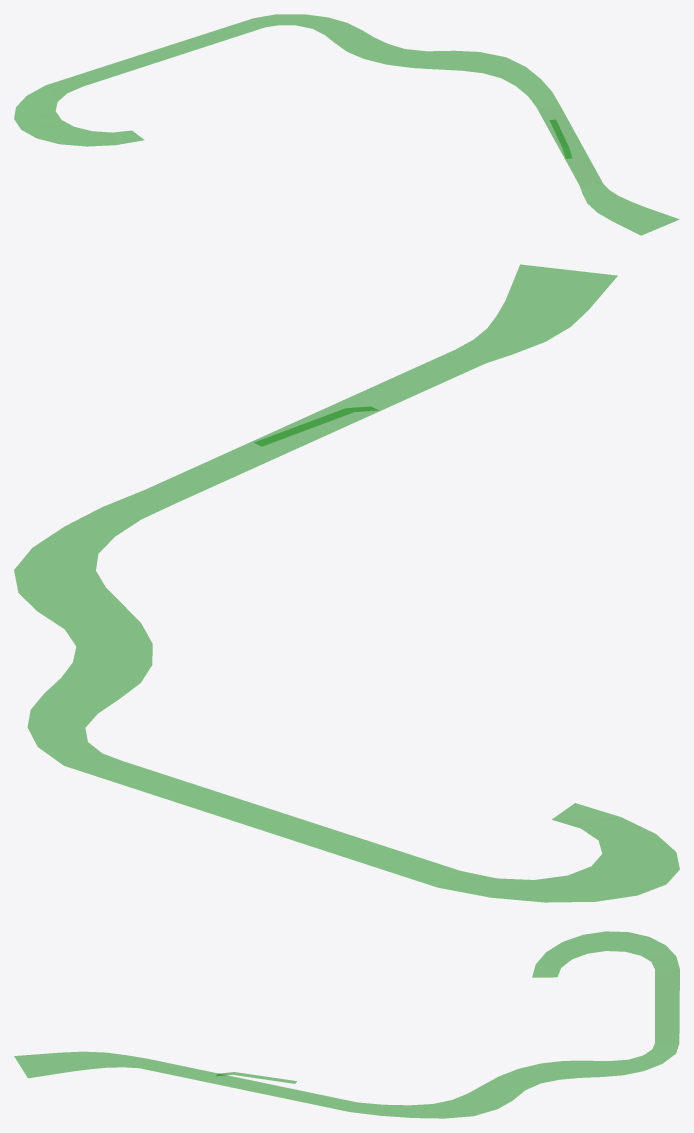
Rendered from road_9_04.obj.
3 renders of one model, top to bottom at view 1: azimuth 30°, elevation 25°; view 2: azimuth 150°, elevation 25°; view 3: azimuth 270°, elevation 25°, orthographic. The views are drawn at different scales.
Bounding box in the file's own units: 294 × 24.43 × 401.
